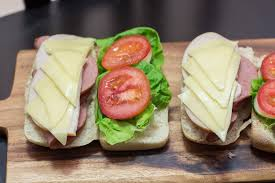sandwich: (18, 22, 177, 159), (153, 23, 275, 158)
